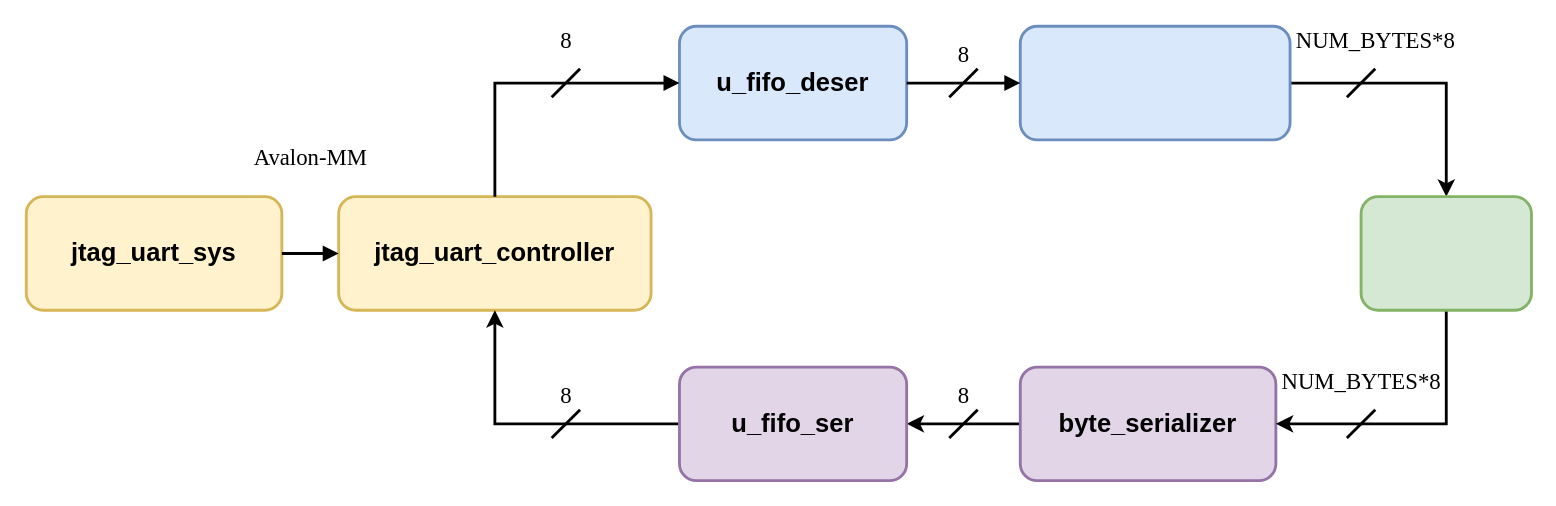
Image size: 1556x506. Some labels were removed from this diagram. Each missing label, with the centre of its shape:
byte_deserializer: (x=1154, y=82)
pfe: (x=1445, y=253)
